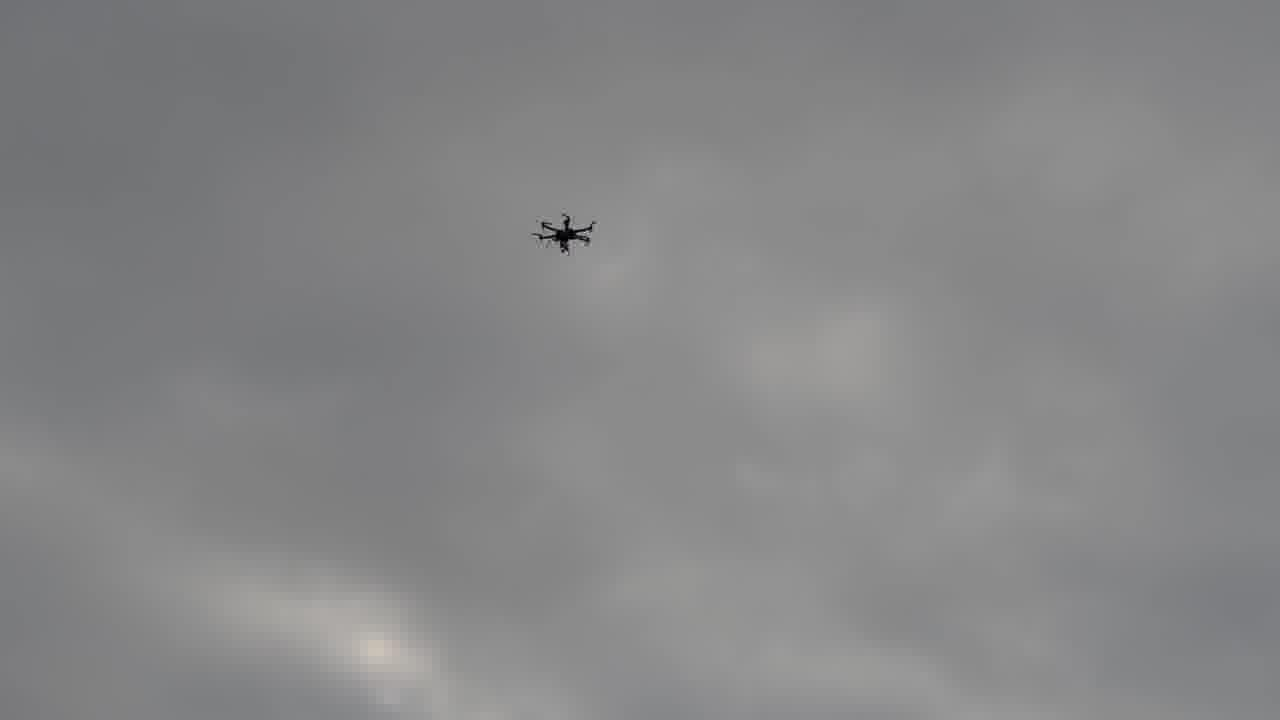drone: (526, 212, 605, 255)
